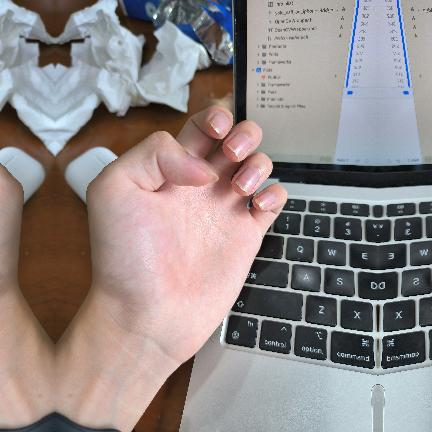Nail: (225, 133, 250, 160), (188, 155, 217, 178), (234, 167, 259, 193), (208, 112, 229, 137), (253, 191, 275, 211)
